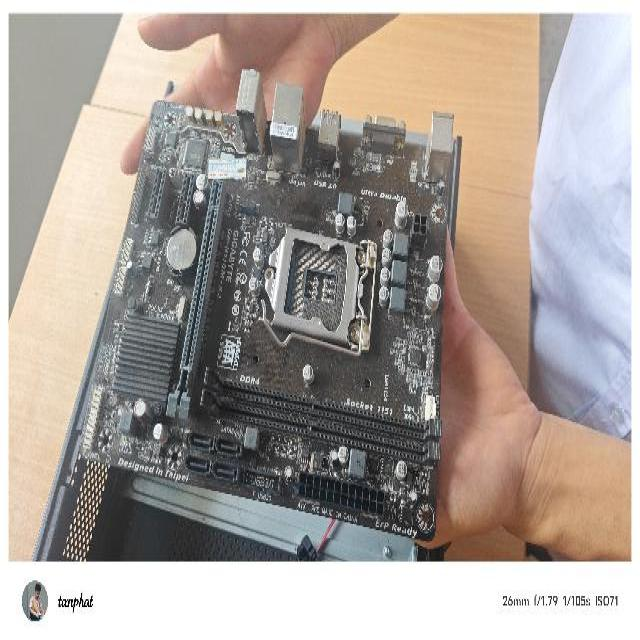Mainboard: (78, 57, 466, 541)
